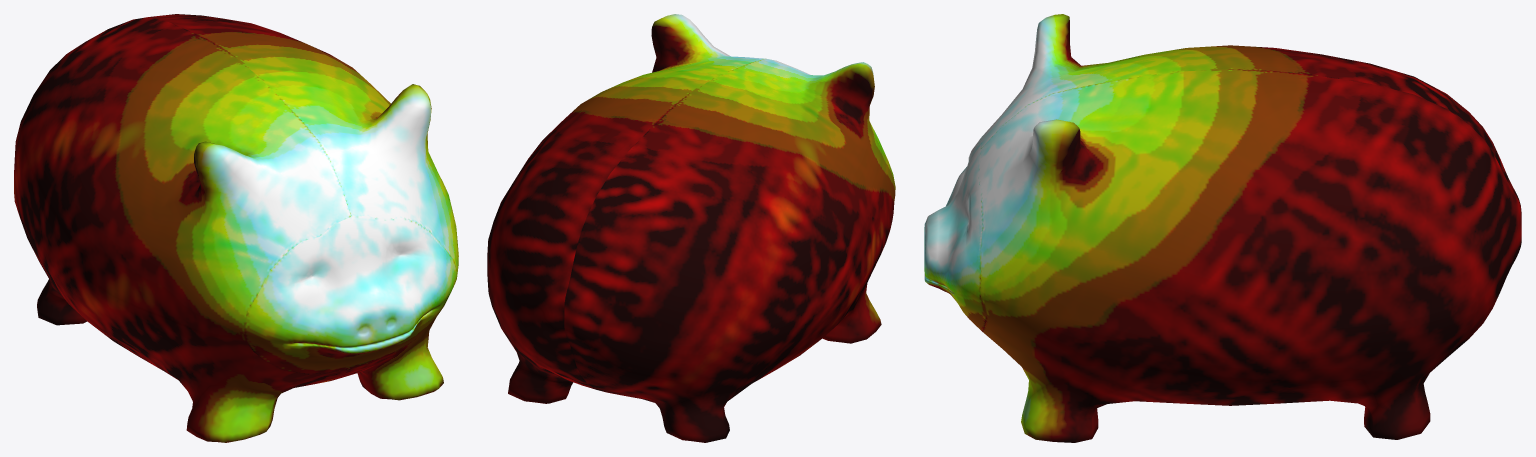
File: piggyiso.obj
3 views of the same model, side by side, from view 1: azimuth 30°, elevation 25°; view 2: azimuth 150°, elevation 25°; view 3: azimuth 270°, elevation 25° (orthographic). The views are drawn at different scales.
Parts seen in each view (by area): view 1: pig_Cube.004; view 2: pig_Cube.004; view 3: pig_Cube.004.
Boxes of the visible parts, box(x1,y1,x2,y2) form: pig_Cube.004: box(14, 14, 458, 442); pig_Cube.004: box(487, 14, 895, 442); pig_Cube.004: box(924, 14, 1521, 442).
Bounding box in the file's own units: 3.81 × 3.19 × 5.49.
